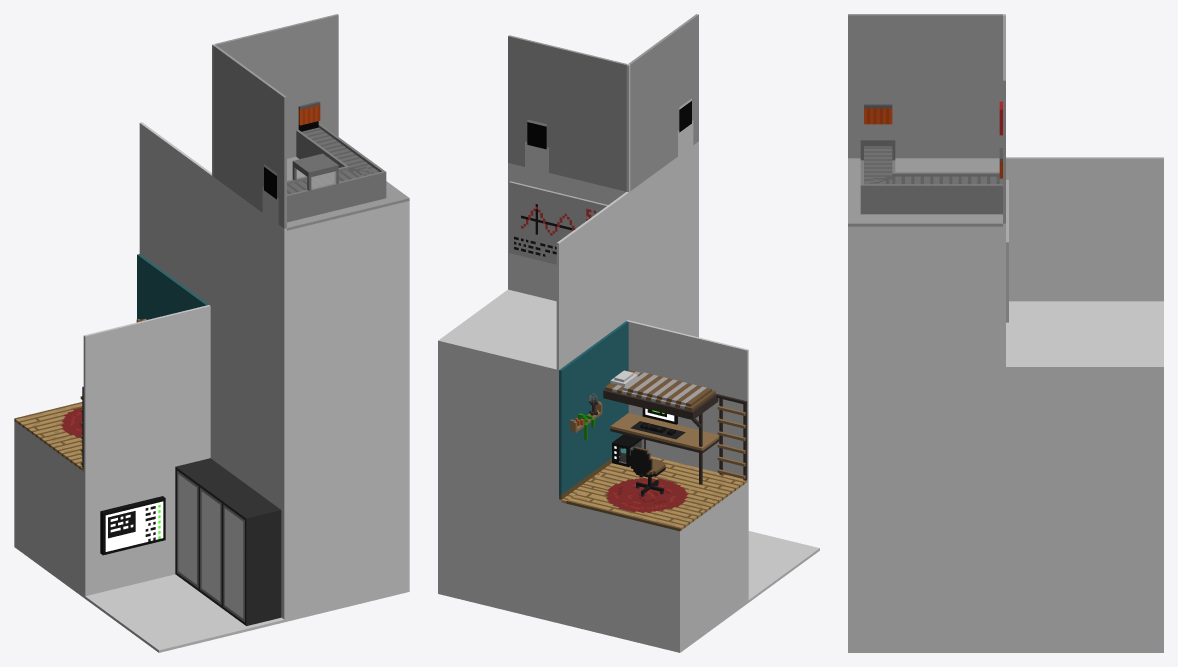
3 views of the same model, side by side, from view 1: azimuth 30°, elevation 25°; view 2: azimuth 150°, elevation 25°; view 3: azimuth 270°, elevation 25° (orthographic). The views are drawn at different scales.
Parts seen in each view (by area): view 1: monu2; view 2: monu2; view 3: monu2.
Part boxes in pixels (x1,y1,x2,y2): monu2: (14,14,409,652); monu2: (438,14,819,652); monu2: (848,14,1163,652).
Bounding box in the file's own units: 100 × 200 × 100.
